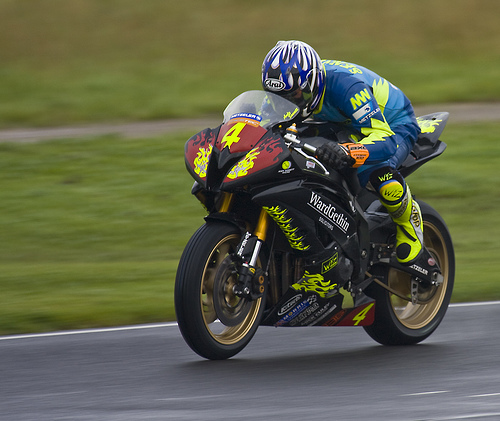helmet: (263, 37, 327, 109)
